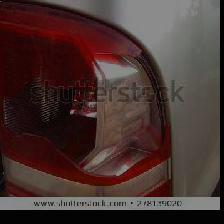tail_lamp: (0, 56, 169, 185)
